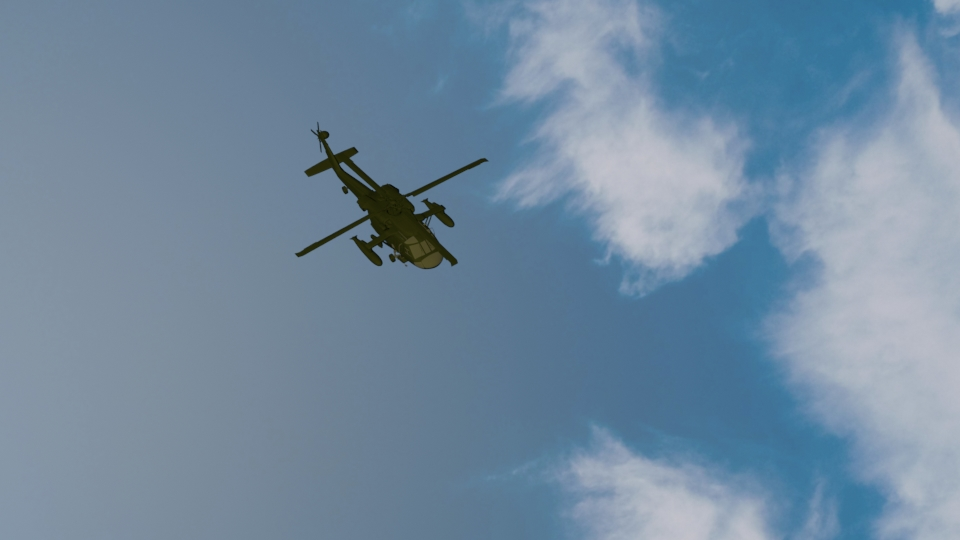heli: (288, 122, 489, 274)
